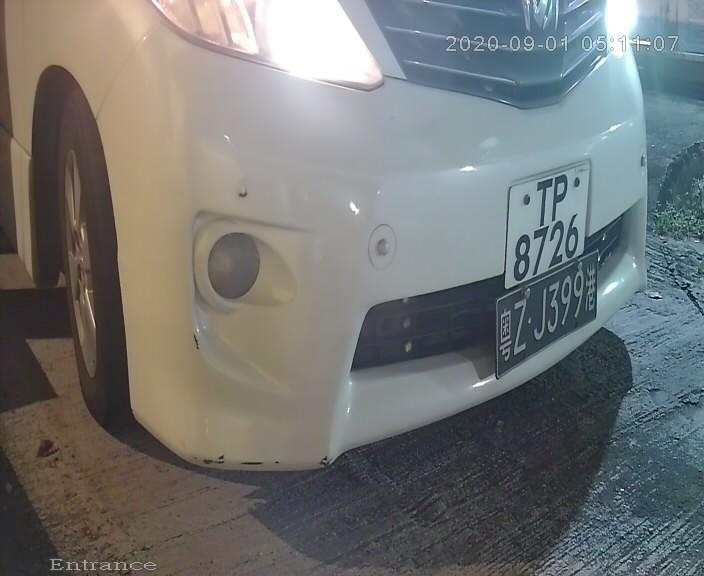License Plate: (497, 150, 594, 317)
